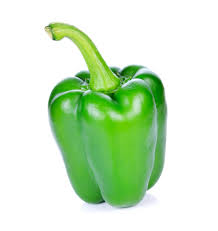fruit_pepper: (43, 22, 169, 209)
